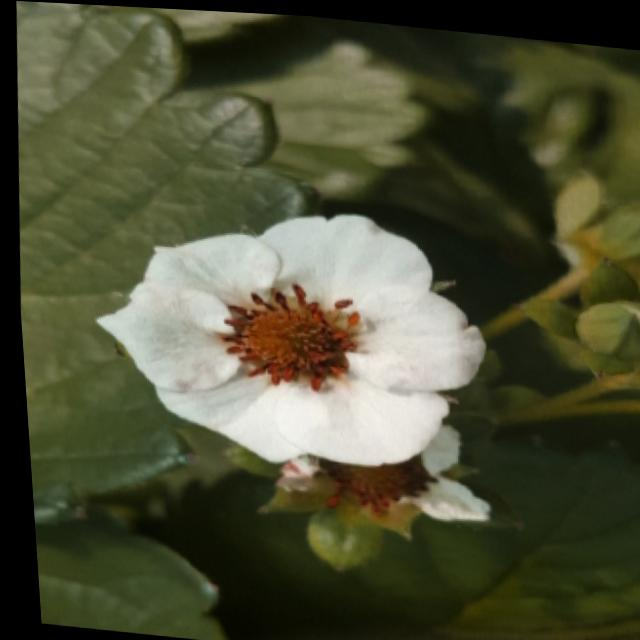Blossom Blight: (208, 275, 362, 400)
